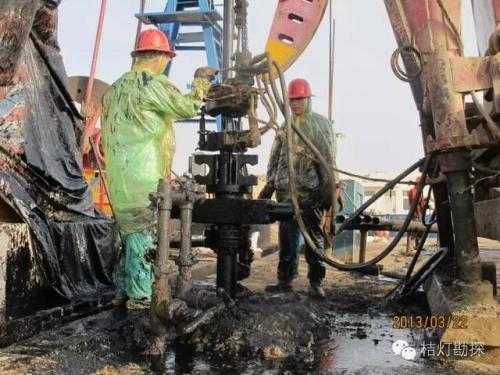boots: (125, 296, 151, 309), (265, 280, 293, 292), (309, 284, 326, 297)
hard-hat: (130, 28, 177, 58), (287, 78, 315, 99)
person: (100, 28, 216, 310), (263, 77, 338, 297)
ppe-suit: (98, 66, 205, 303), (263, 110, 338, 285)
